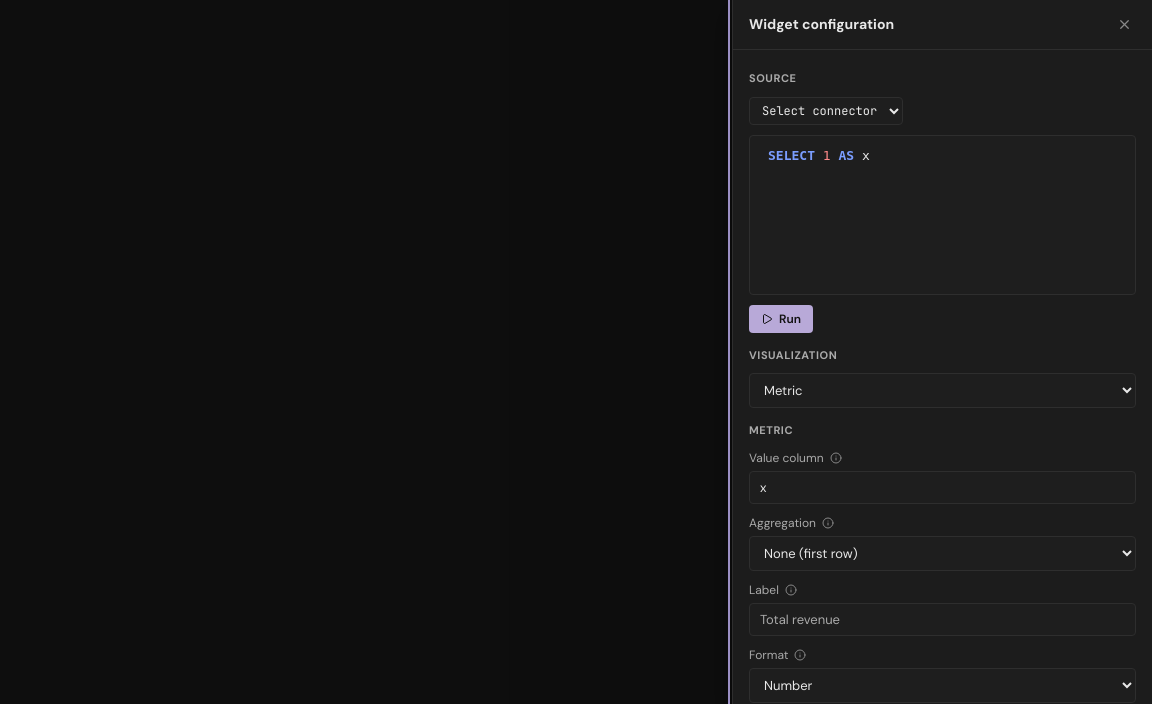
Test: WidgetConfigDrawer › renders the metric preview and column suggestions after a run
Click the button "Run": [781, 318] box top-left (749, 304), bottom-right (813, 332)
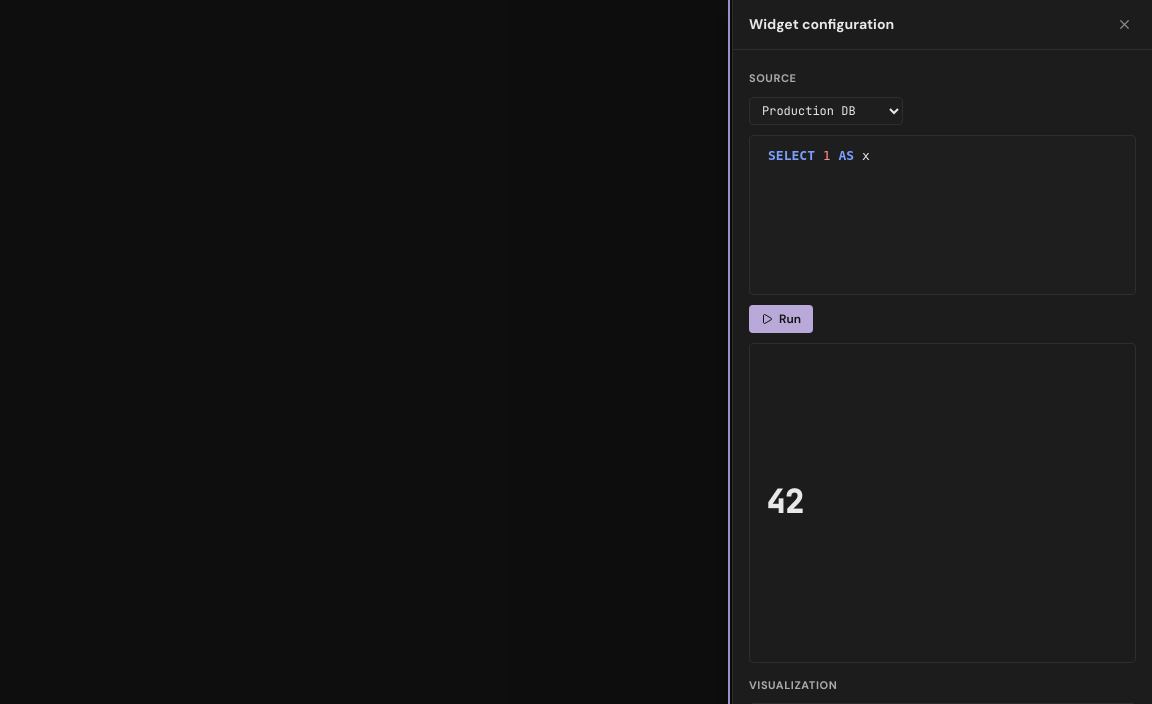
Now the element "42" is shown, box top-left (766, 481), bottom-right (803, 523)
